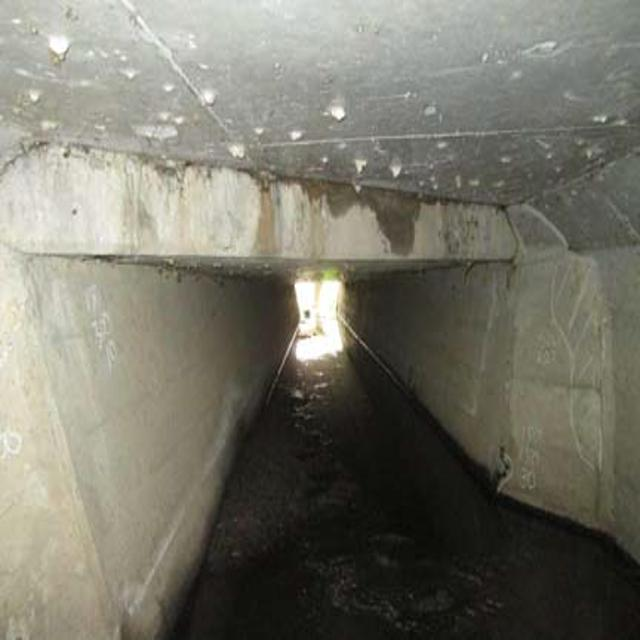leakage: (260, 169, 427, 247)
